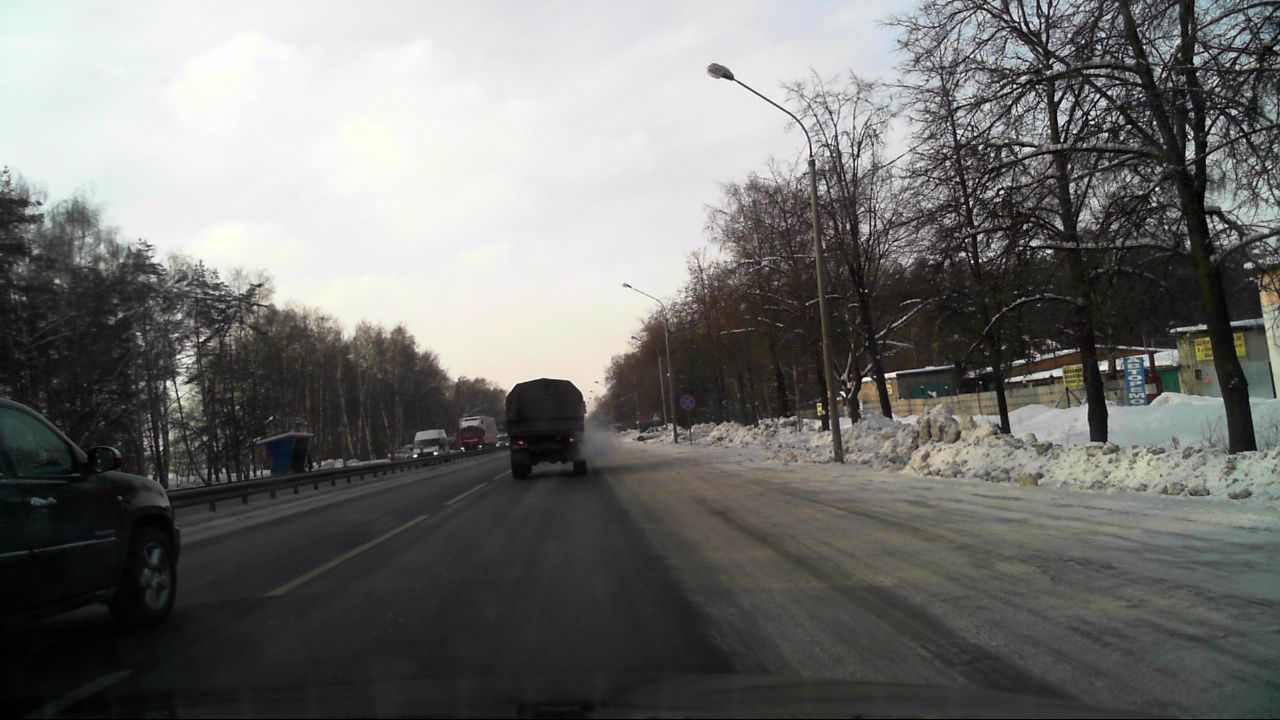No Parking: (679, 395, 695, 411)
